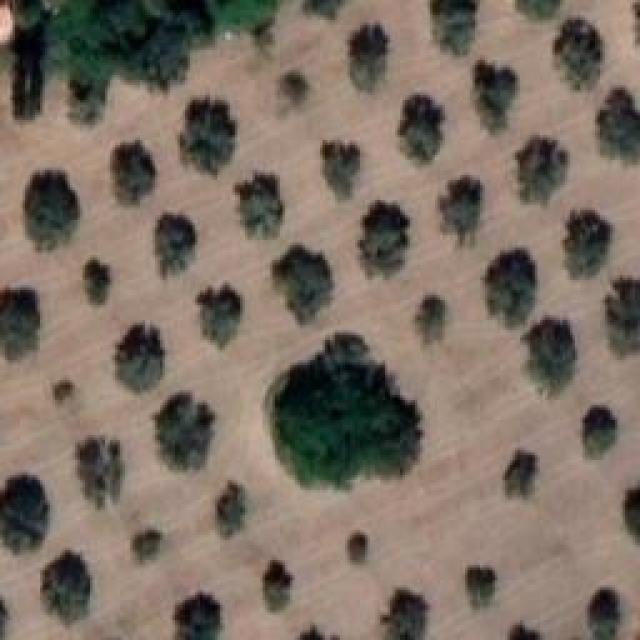Tree: (270, 333, 422, 490), (60, 0, 218, 121), (155, 393, 216, 470), (273, 245, 332, 323), (23, 170, 79, 250), (180, 100, 238, 176), (523, 318, 579, 396), (485, 247, 538, 327), (360, 200, 411, 277), (0, 475, 49, 555), (515, 134, 568, 206), (43, 553, 93, 625), (553, 18, 603, 90), (563, 210, 613, 280), (397, 95, 445, 166), (115, 325, 165, 393), (473, 60, 518, 132), (597, 87, 640, 162), (78, 437, 123, 507), (235, 172, 283, 237), (440, 176, 484, 246), (110, 140, 156, 205), (198, 285, 244, 348), (605, 278, 640, 358), (0, 288, 38, 361), (158, 213, 198, 280), (350, 25, 390, 91), (432, 0, 478, 54), (383, 590, 428, 640), (322, 143, 360, 201), (213, 0, 279, 31), (178, 595, 223, 640), (583, 408, 618, 460), (82, 255, 114, 311), (218, 483, 248, 540), (587, 587, 618, 640), (505, 450, 538, 498), (263, 560, 293, 612), (415, 295, 446, 343), (468, 568, 498, 610), (11, 0, 46, 30), (133, 530, 164, 563), (280, 72, 309, 106), (517, 0, 561, 19), (625, 488, 640, 543), (305, 0, 345, 18), (348, 533, 369, 565), (53, 380, 76, 405), (508, 625, 543, 640), (300, 625, 326, 640)
